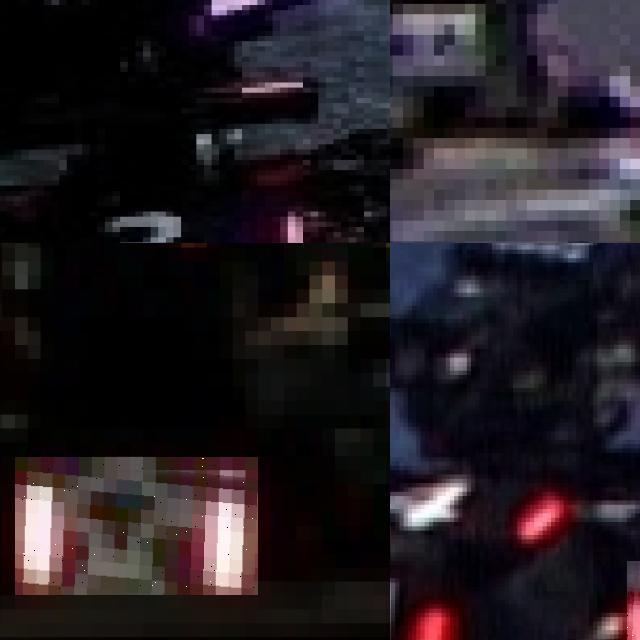Rs: (15, 457, 258, 595)
